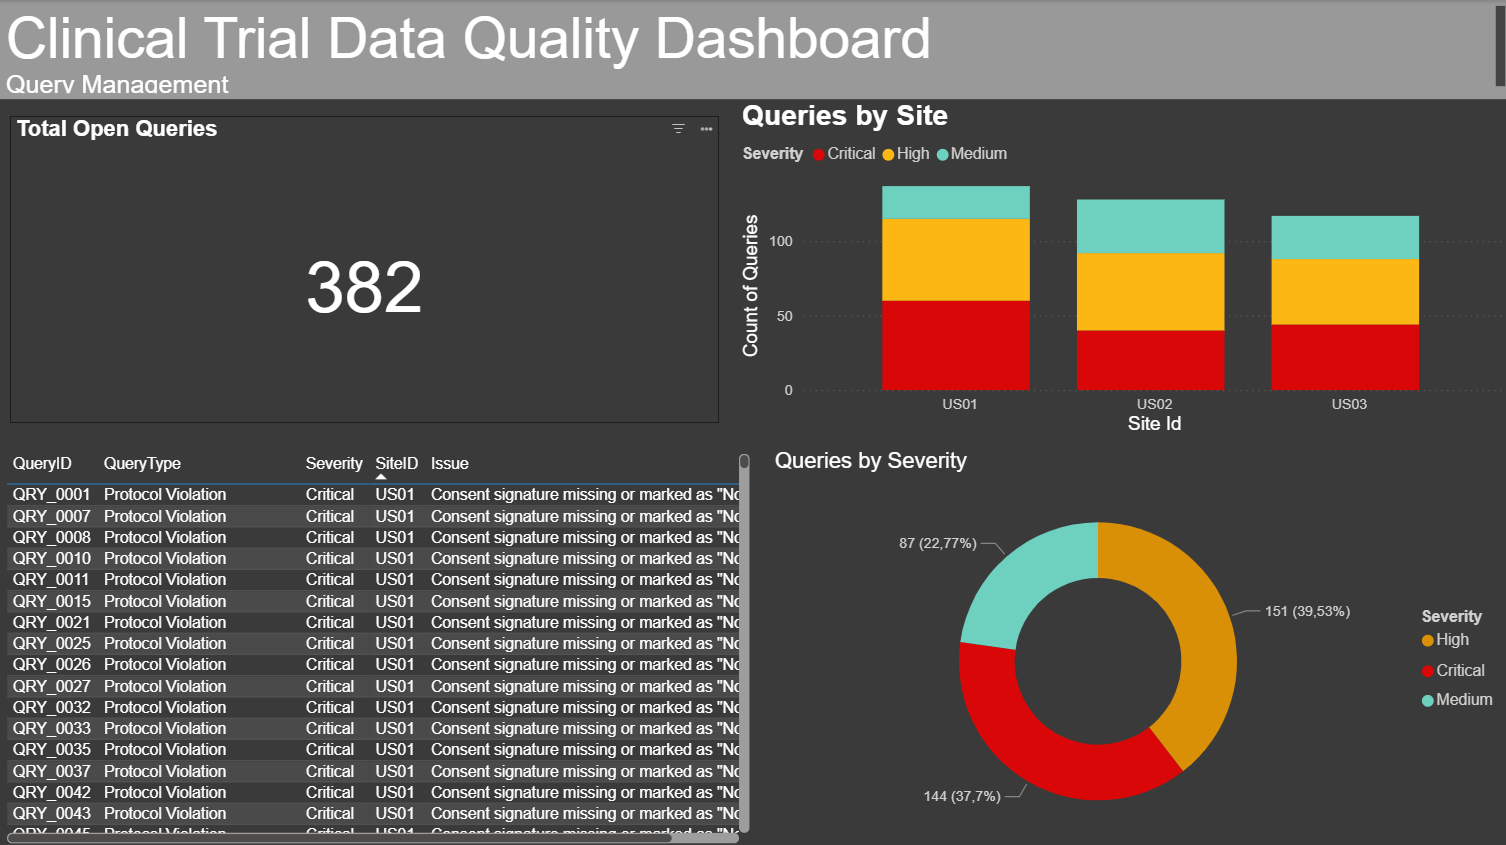

The page's visual inventory and layout, read from the dashboard file:
{"tool":"powerbi","page":{"name":"Data Quality Overview","canvas":[1280,720],"ordinal":0},"visuals":[{"type":"card","title":"Total Open Queries","fields":{"Values":["CountNonNull(Queries.QueryID)"]},"box":[8.8,98.2,600.1,259.7],"z":0},{"type":"donutChart","title":"Queries by Severity","fields":{"Category":["Queries.Severity"],"Y":["CountNonNull(Queries.QueryID)"]},"box":[651.7,379.3,628.3,340.4],"z":1000},{"type":"columnChart","title":"Queries by Site","fields":{"Category":["Queries.SiteID"],"Y":["CountNonNull(Queries.QueryID)"],"Series":["Queries.Severity"]},"box":[623.5,83.6,656.5,288.9],"z":2000},{"type":"tableEx","fields":{"Values":["Queries.QueryID","Queries.QueryType","Queries.Severity","Queries.SiteID","Queries.Issue"]},"box":[0,379.3,640,340.4],"z":3000},{"type":"textbox","box":[0,0,1280,83.6],"z":4000}]}

Visuals, with their boxes in screenshot pixels (x1, y1, x2, y2), scaled from the page's 1280x720 canvas onto the 1506x845 screenshot:
"Total Open Queries" card: 10, 115, 716, 420
"Queries by Severity" donutChart: 767, 445, 1505, 844
"Queries by Site" columnChart: 734, 98, 1505, 437
tableEx - Queries.QueryID x Queries.QueryType: 0, 445, 753, 844
textbox: 0, 0, 1505, 98
